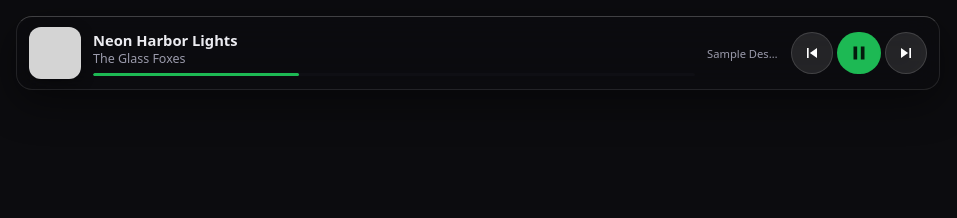
Scenario: NowPlayingBar › queue list is scroll-capped when expanded
Expected: the text "Neon Harbor Lights" is shown, [93,30,238,50]
Step 1. Click the button with aria-label "now playing" → (55, 53), box [16,16,940,90]
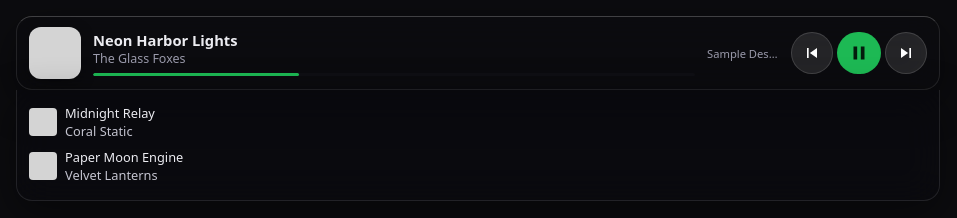
Now the list with class "np-queue" is shown, box [16,90,940,201]
